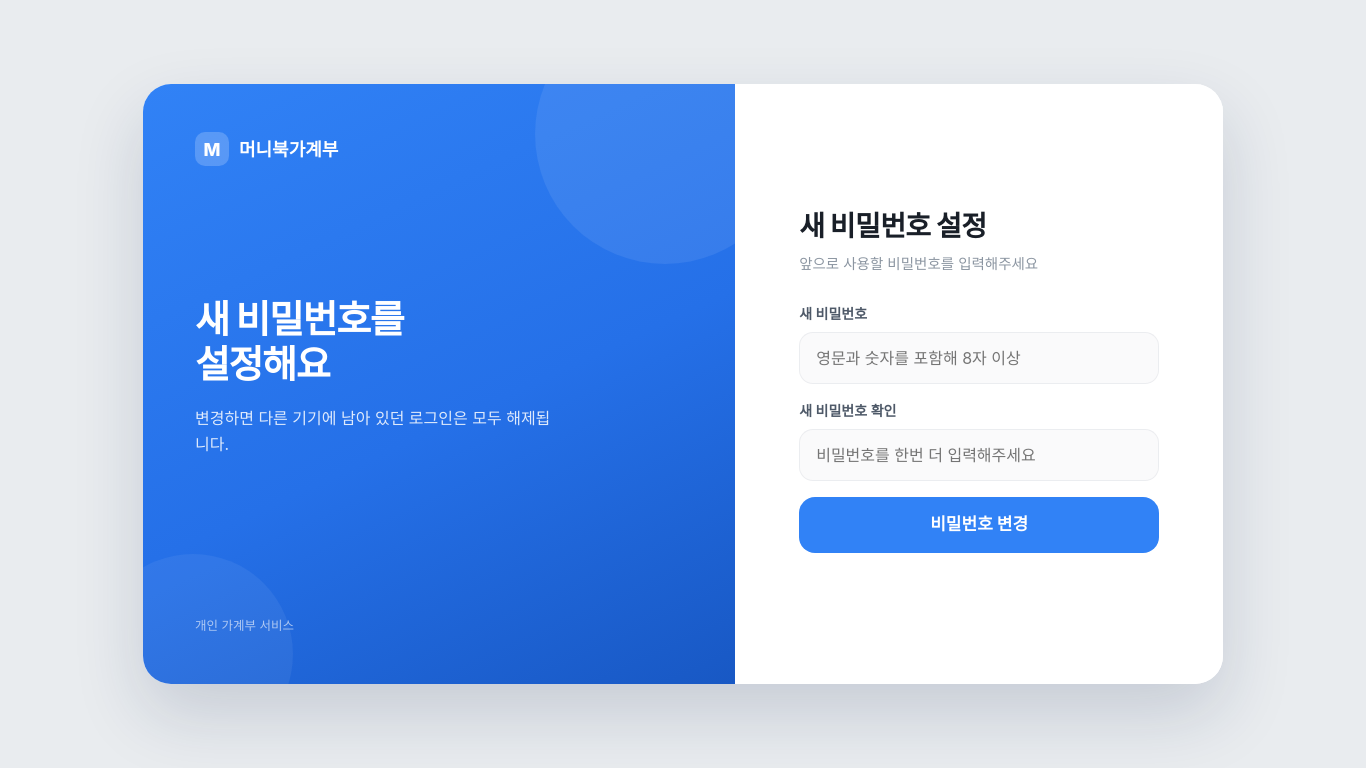
Test: ResetPasswordPage › rejects mismatched passwords
Type "password123" into the password field labelled "새 비밀번호" at (979, 358), box [799,332,1159,384]
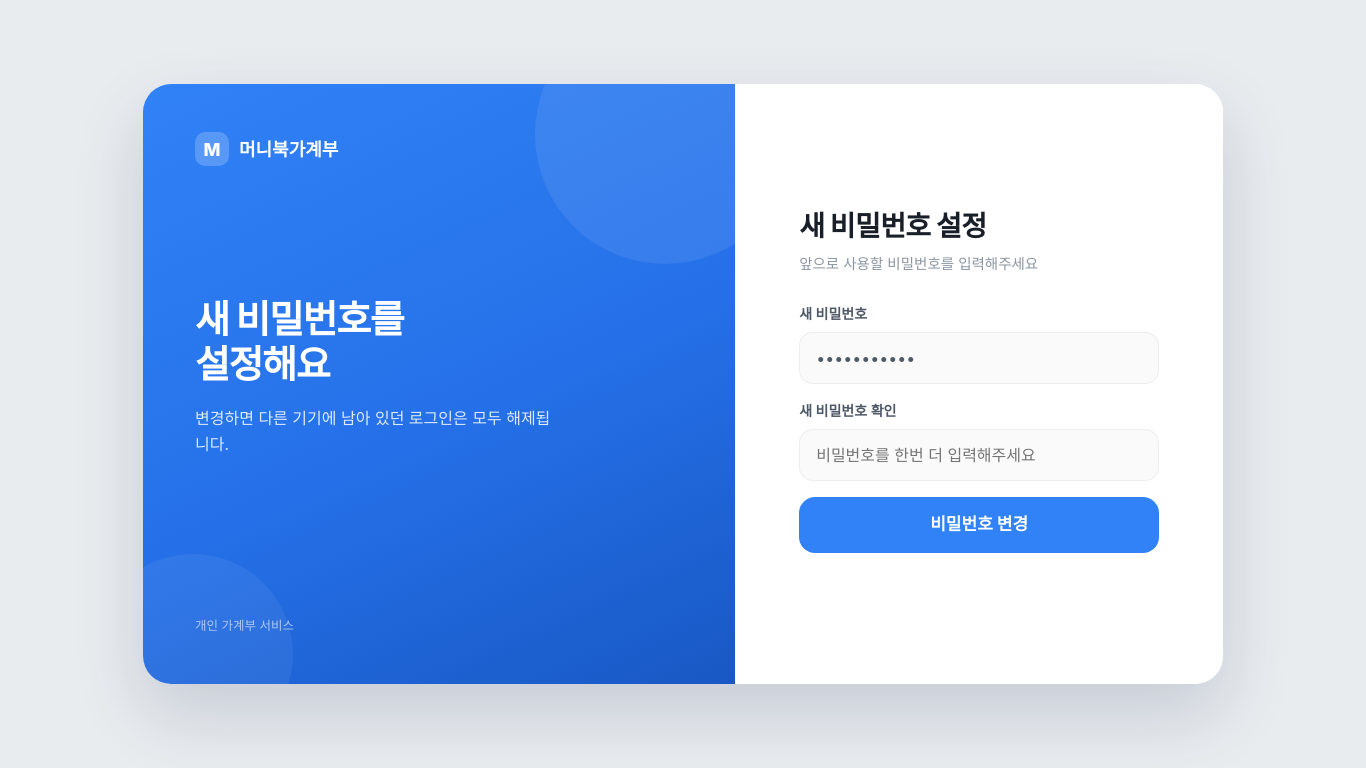
Type "password124" into the password field labelled "새 비밀번호 확인" at (979, 455), box [799,429,1159,481]
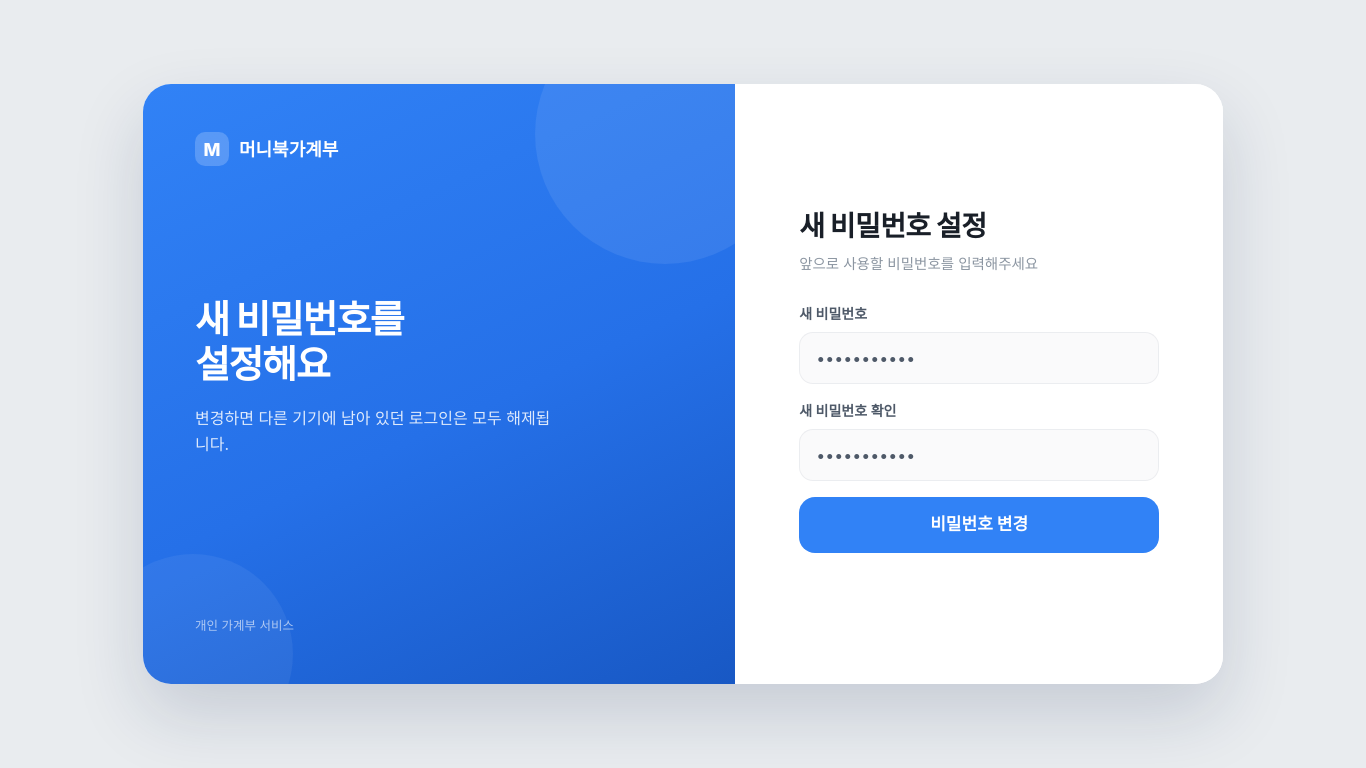
Click the button "비밀번호 변경" at (979, 525), box [799,497,1159,553]
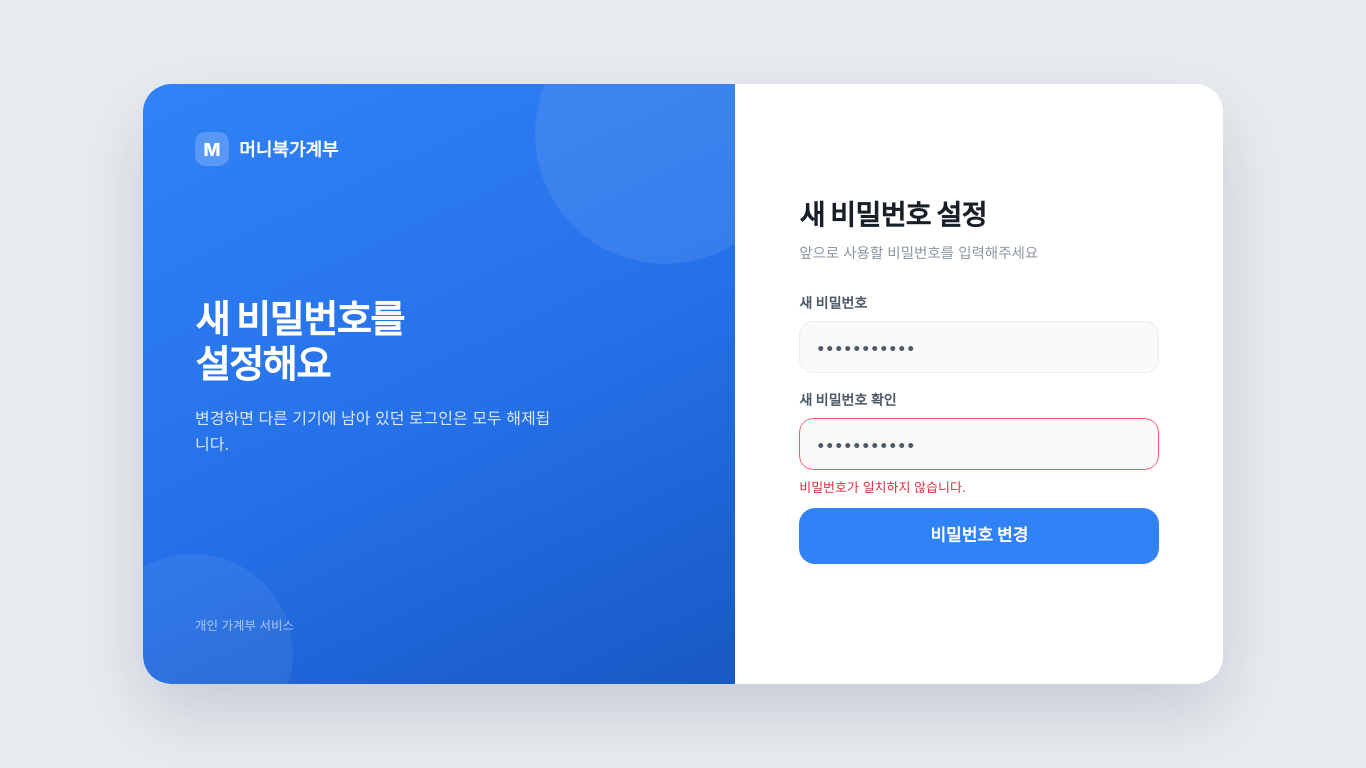
Expected: the text "비밀번호가 일치하지 않습니다." is shown, [799,479,966,495]
